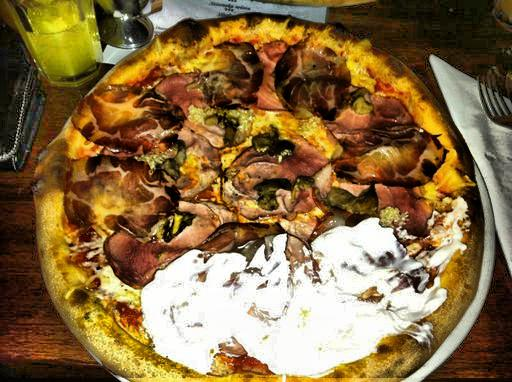pizza: (36, 23, 512, 382)
